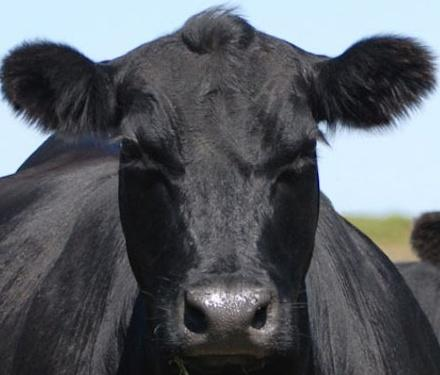muzzles: (150, 276, 297, 371)
